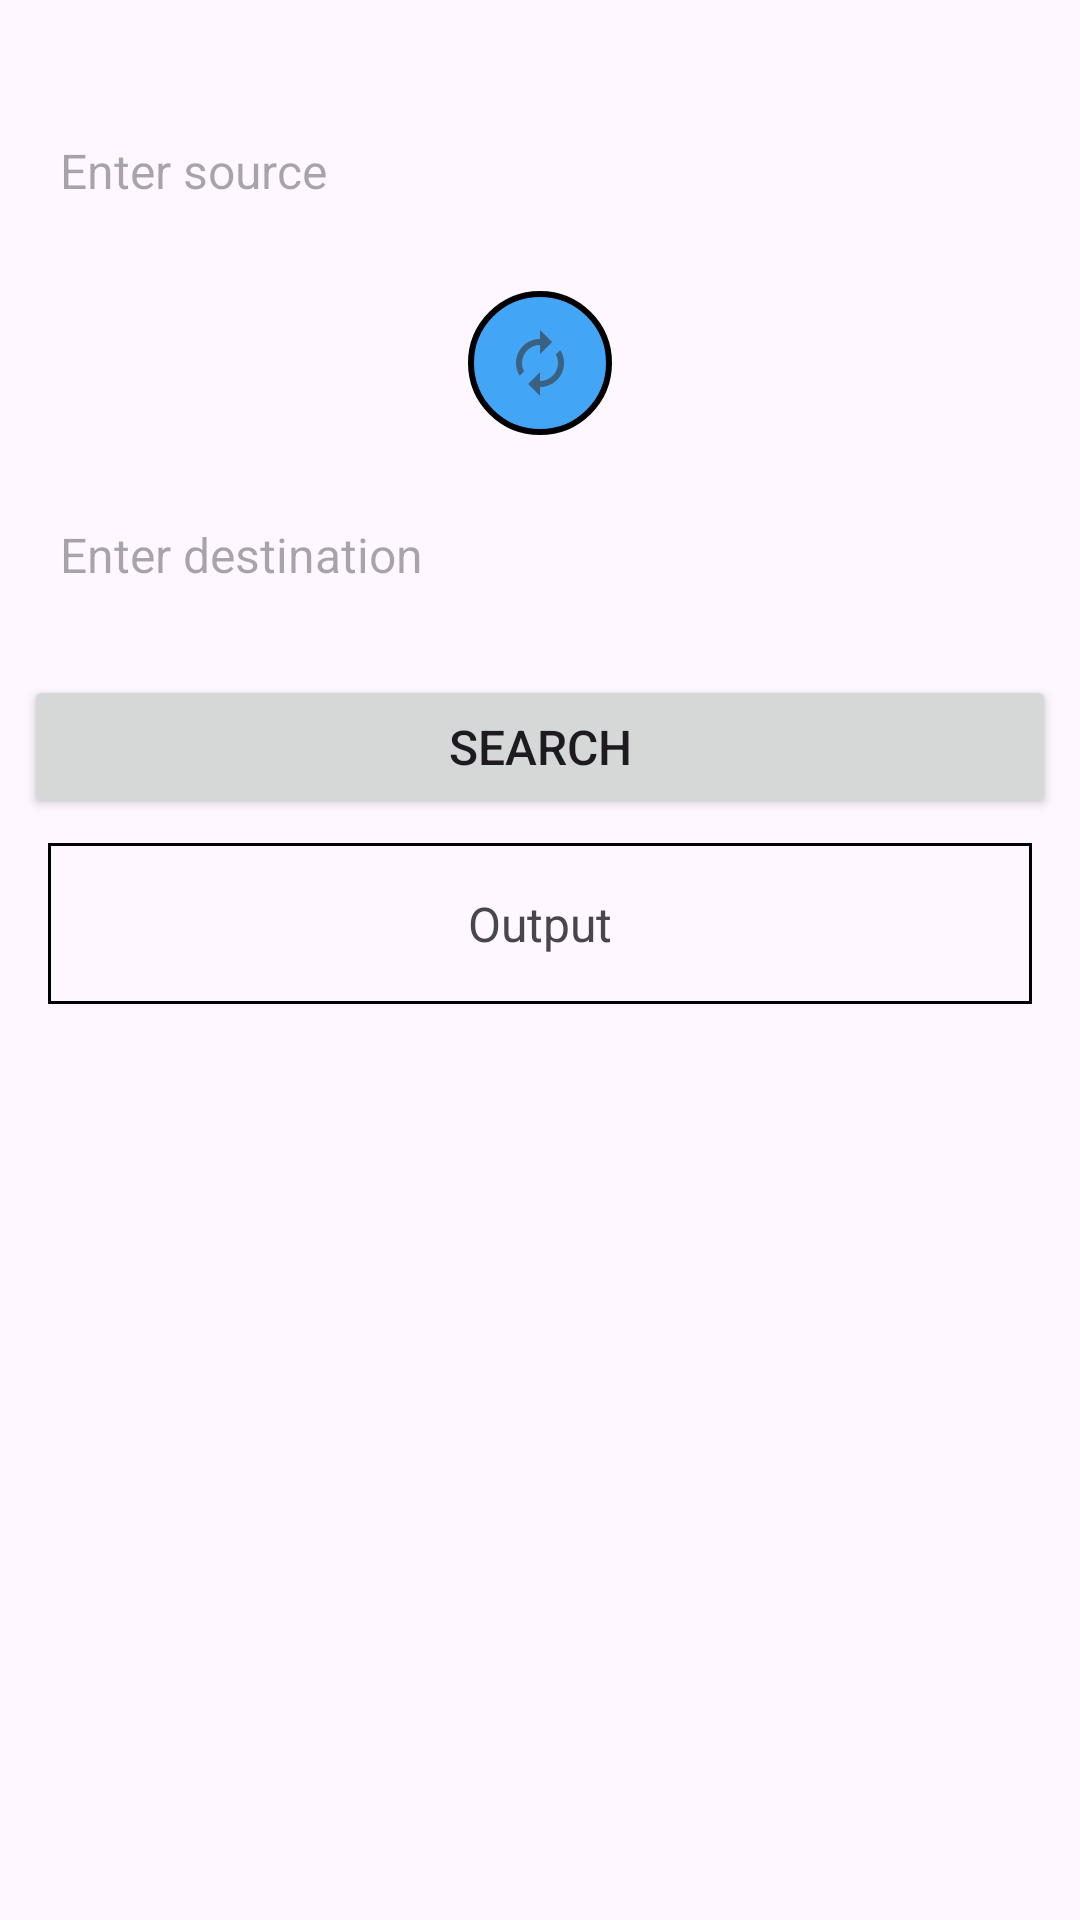

Icon click points for this 1080 × 1920 phone screenshot, format (x,y):
swap place: (540,363)
